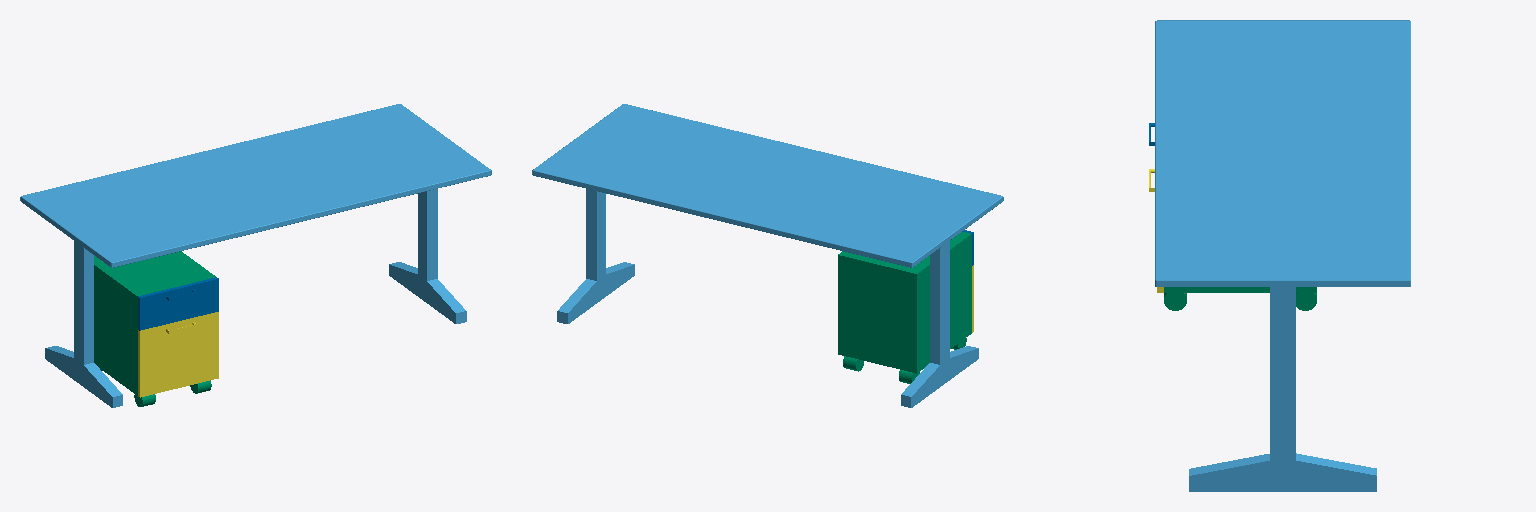
URDF robot description (kitchen_scene):
<?xml version="1.0"?>
<!-- URDF of the kitchen scene. -->
<robot name="kitchen_scene">

    <!-- objects in the scene -->

    <link name="base_link">
        <inertial>
            <origin xyz="0 0 0" rpy="0 0 0"/>
            <mass value="0"/>
            <inertia ixx="1" ixy="0" ixz="0" iyy="1" iyz="0" izz="1"/>
        </inertial>
    </link>


    <link name="table" concave="yes">
        <inertial>
            <origin xyz="0 0 0" rpy="0 0 0"/>
            <mass value="1"/>
            <inertia ixx="1" ixy="0" ixz="0" iyy="1" iyz="0" izz="1"/>
        </inertial>
        <visual>
            <geometry>
                <mesh filename="./meshes/table.stl"/>
            </geometry>
        </visual>
        <collision concave="yes">
            <geometry>
                <mesh filename="./meshes/table.stl"/>
            </geometry>
        </collision>
    </link>

    <link name="file_cabinet_body" concave="yes">
        <inertial>
            <origin xyz="0 0 0" rpy="0 0 0"/>
            <mass value="1"/>
            <inertia ixx="1" ixy="0" ixz="0" iyy="1" iyz="0" izz="1"/>
        </inertial>

        <visual>
            <geometry>
                <mesh filename="./meshes/file_cabinet_body.stl"/>
            </geometry>
        </visual>
        <collision concave="yes">
            <geometry>
                <mesh filename="./meshes/file_cabinet_body.stl"/>
            </geometry>
        </collision>
    </link>

    <link name="file_cabinet_drawer_bottom" concave="yes">
        <inertial>
            <origin xyz="0 0 0" rpy="0 0 0"/>
            <mass value="1"/>
            <inertia ixx="1" ixy="0" ixz="0" iyy="1" iyz="0" izz="1"/>
        </inertial>

        <visual>
            <geometry>
                <mesh filename="./meshes/file_cabinet_drawer_bottom.stl"/>
            </geometry>
        </visual>
        <collision concave="yes">
            <geometry>
                <mesh filename="./meshes/file_cabinet_drawer_bottom.stl"/>
            </geometry>
        </collision>
    </link>

    <link name="file_cabinet_drawer_top" concave="yes">
        <inertial>
            <origin xyz="0 0 0" rpy="0 0 0"/>
            <mass value="1"/>
            <inertia ixx="1" ixy="0" ixz="0" iyy="1" iyz="0" izz="1"/>
        </inertial>

        <visual>
            <geometry>
                <mesh filename="./meshes/file_cabinet_drawer_top.stl"/>
            </geometry>
        </visual>
        <collision concave="yes">
            <geometry>
                <mesh filename="./meshes/file_cabinet_drawer_top.stl"/>
            </geometry>
        </collision>
    </link>

   <!-- joints in the scene. -->

    <!-- some joints are defined by the nature of the environment: for example,
    the table is fixed in the world, and the filing cabinet drawers can move in
    and out. -->
    <joint name="table_joint" type="fixed">
        <parent link="base_link"/>
        <child link="table"/>
        <origin xyz="0.0 0.0 0.69" rpy="0.0 0.0 0.0"/>
    </joint>

    <joint name="file_cabinet_body_joint" type="fixed">
        <parent link="base_link"/>
        <child link="file_cabinet_body"/>
        <origin xyz="0.0 0.0 0.69" rpy="0.0 0.0 0.0"/>
    </joint>

    <joint name="file_cabinet_drawer_bottom_joint" type="prismatic">
        <parent link="file_cabinet_body"/>
        <child link="file_cabinet_drawer_bottom"/>
        <origin xyz="0.0 0.0 0.0" rpy="0.0 0.0 0.0"/>
        <axis xyz="0.0 -1.0 0.0"/>
        <limit effort="1000.0" lower="0.0" upper="0.24" velocity="0.5"/>
    </joint>

    <joint name="file_cabinet_drawer_top_joint" type="prismatic">
        <parent link="file_cabinet_body"/>
        <child link="file_cabinet_drawer_top"/>
        <origin xyz="0.0 0.0 0.0" rpy="0.0 0.0 0.0"/>
        <axis xyz="0.0 -1.0 0.0"/>
        <limit effort="1000.0" lower="0.0" upper="0.24" velocity="0.5"/>
    </joint>

</robot>

--- What the picture shows (computed from the rendered views, not written in the file) ---
3 views of the same robot in one strip: view 1: azimuth 30°, elevation 25°; view 2: azimuth 150°, elevation 25°; view 3: azimuth 270°, elevation 25° (orthographic).
Model kitchen_scene with 5 links and 4 joints (2 prismatic, 2 fixed), rooted at base_link, posed all joints at 0.
Links seen in each view (by area): view 1: table, file_cabinet_body, file_cabinet_drawer_bottom, file_cabinet_drawer_top; view 2: table, file_cabinet_body; view 3: table, file_cabinet_body.
Boxes of the visible links, x1=… form: table: x1=20, y1=104, x2=491, y2=407; file_cabinet_body: x1=94, y1=251, x2=215, y2=406; file_cabinet_drawer_bottom: x1=138, y1=312, x2=218, y2=397; file_cabinet_drawer_top: x1=138, y1=277, x2=218, y2=330; table: x1=532, y1=104, x2=1003, y2=407; file_cabinet_body: x1=838, y1=232, x2=971, y2=383; table: x1=1155, y1=20, x2=1410, y2=491; file_cabinet_body: x1=1164, y1=287, x2=1316, y2=310.
Size in the robot's own frame: 1.83 by 0.7811 by 0.7239 metres.
Meshes: 4 distinct files referenced, 4 mesh visuals loaded (4 binary STL).